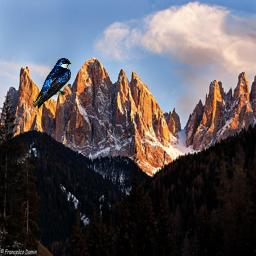Swallow: (32, 58, 72, 109)
